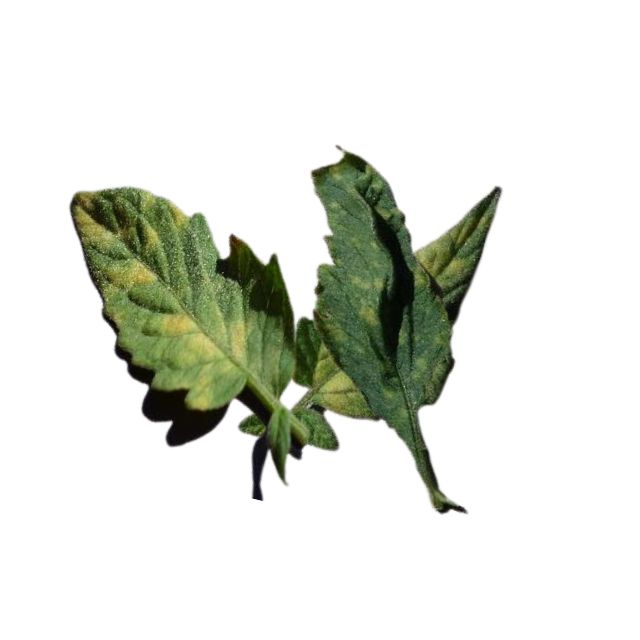Leaf_Mold: (156, 312, 254, 411), (418, 218, 473, 284), (75, 187, 126, 253), (316, 363, 365, 418), (91, 258, 160, 297), (349, 269, 385, 326), (169, 198, 190, 228)
